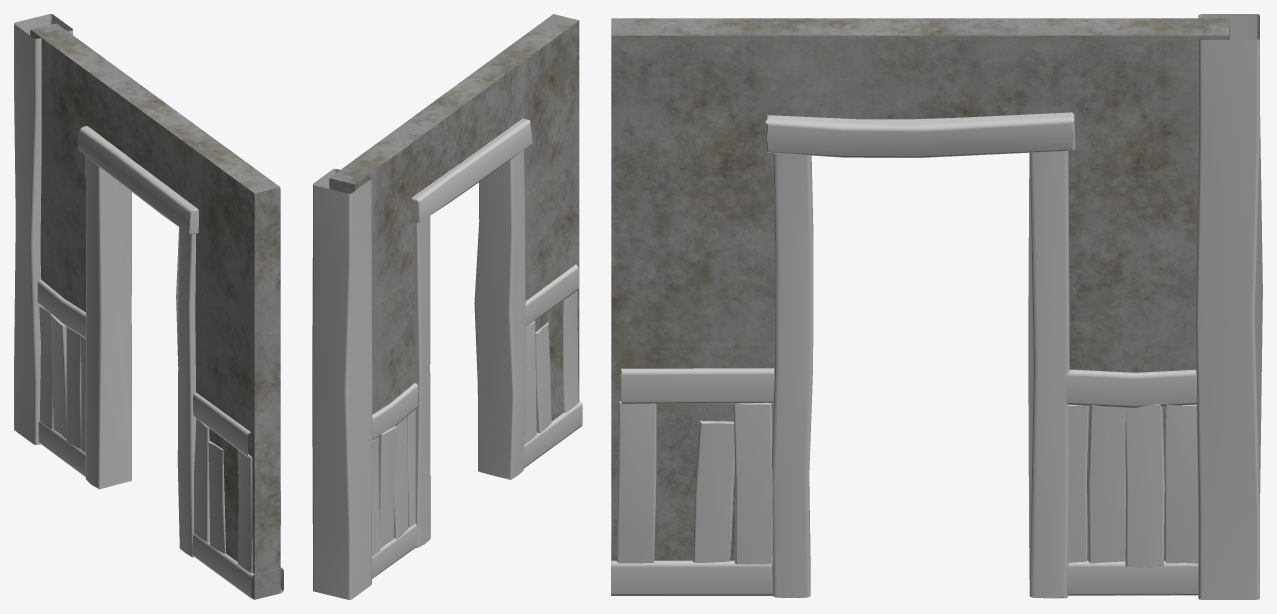
Rendered from SM_WallDoorway02.fbx.
The picture shows the model from 3 angles, left to right: view 1: azimuth 30°, elevation 25°; view 2: azimuth 150°, elevation 25°; view 3: azimuth 270°, elevation 25°; orthographic projection. The views are drawn at different scales.
Parts seen in each view (by area): view 1: SM_WallDoorway02_LOD0; view 2: SM_WallDoorway02_LOD0; view 3: SM_WallDoorway02_LOD0.
Boxes of the visible parts, bbox=[...] form: SM_WallDoorway02_LOD0: bbox=[14, 14, 283, 599]; SM_WallDoorway02_LOD0: bbox=[312, 14, 582, 599]; SM_WallDoorway02_LOD0: bbox=[611, 14, 1262, 599].
Bounding box in the file's own units: 35.17 × 317 × 300.
